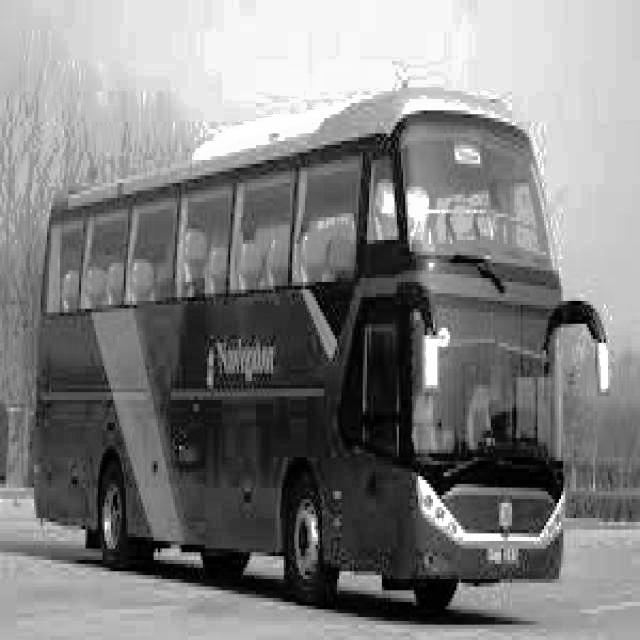Bus: (26, 73, 618, 627)
